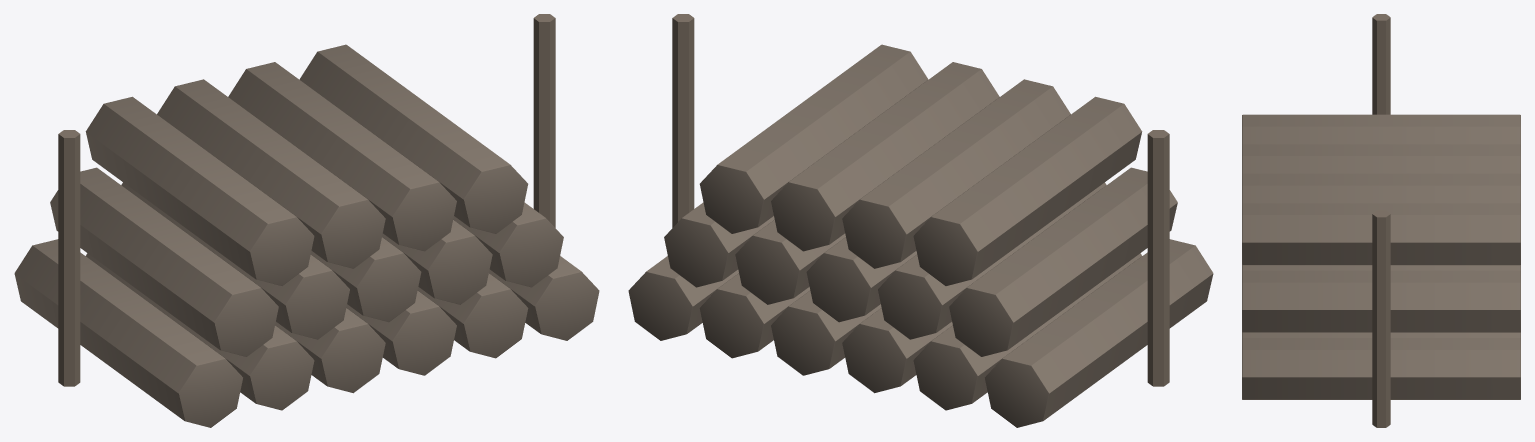
The model's file is woodpile.gltf.
3 views of the same model, side by side, from view 1: azimuth 30°, elevation 25°; view 2: azimuth 150°, elevation 25°; view 3: azimuth 270°, elevation 25° (orthographic). The views are drawn at different scales.
Parts seen in each view (by area): view 1: Body; view 2: Body; view 3: Body.
Boxes of the visible parts, x1=… form: Body: x1=14, y1=14, x2=599, y2=427; Body: x1=628, y1=14, x2=1213, y2=427; Body: x1=1242, y1=14, x2=1520, y2=427.
Size of the model in its own units: 2.07 by 1 by 1.2.
